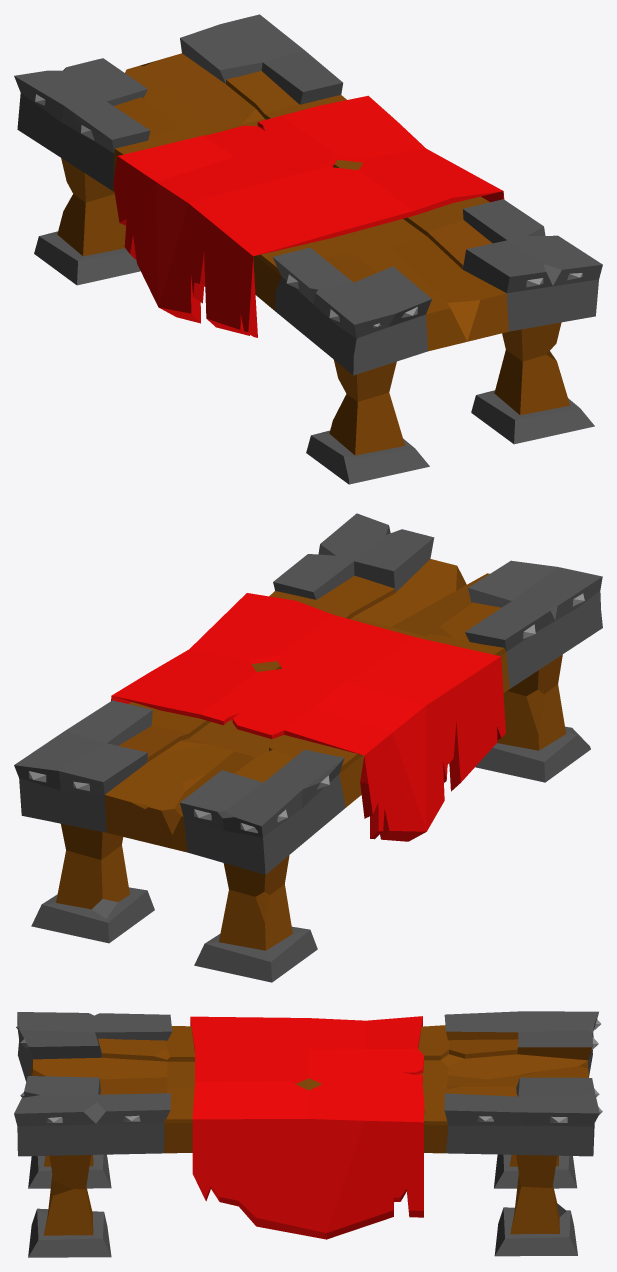
File: mesa_medieval.glb
The picture shows the model from 3 angles, top to bottom: view 1: azimuth 30°, elevation 25°; view 2: azimuth 150°, elevation 25°; view 3: azimuth 270°, elevation 25°; orthographic projection. The views are drawn at different scales.
Parts seen in each view (by area): view 1: Cube; view 2: Cube; view 3: Cube.
Boxes of the visible parts, bbox=[...] form: Cube: bbox=[14, 14, 602, 484]; Cube: bbox=[14, 513, 602, 982]; Cube: bbox=[14, 1011, 602, 1257].
Size of the model in its own units: 691 by 416 by 1512.
1 material, 1 textured.
